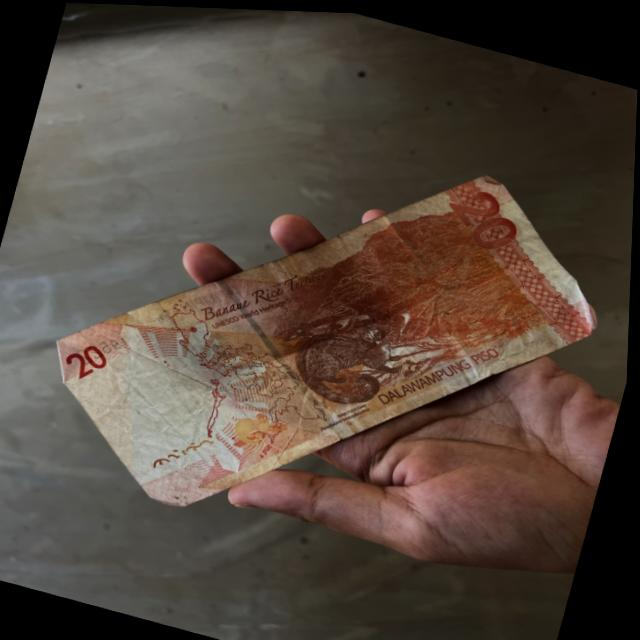20_civet: (289, 292, 413, 416)
20_civet_watermark: (228, 401, 292, 457)
